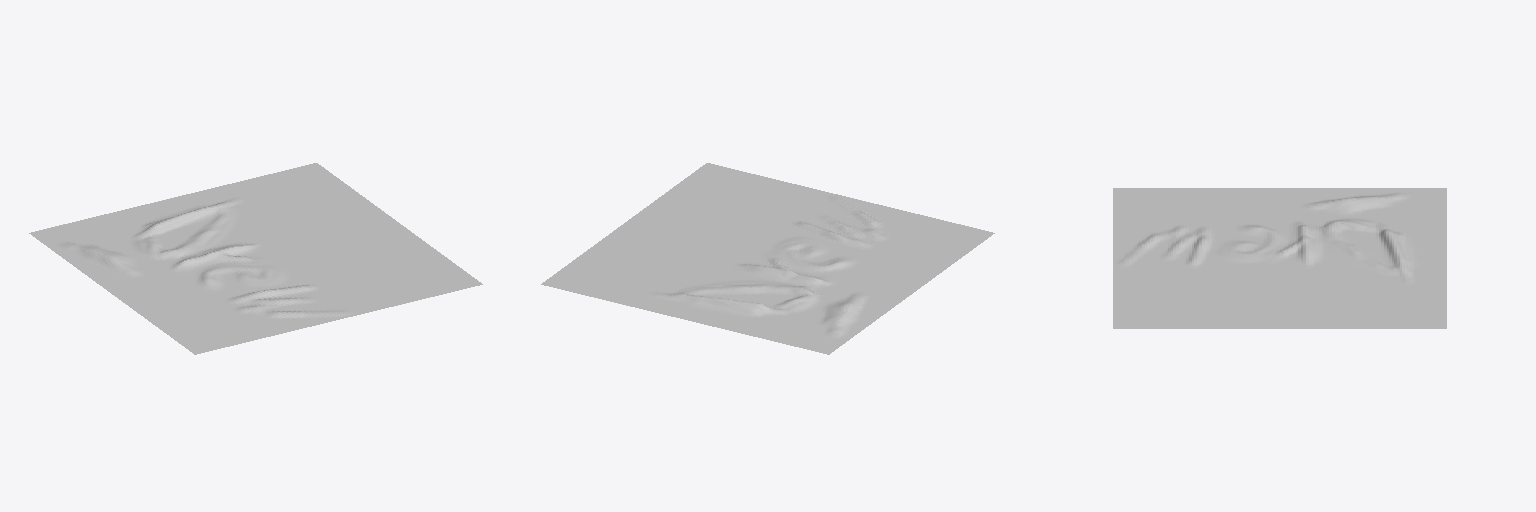
The model's file is drew.obj.
The picture shows the model from 3 angles: view 1: azimuth 30°, elevation 25°; view 2: azimuth 150°, elevation 25°; view 3: azimuth 270°, elevation 25°; orthographic projection.
Visible parts, largest first — view 1: Plane; view 2: Plane; view 3: Plane.
Part boxes in pixels (x1,y1,x2,y2): Plane: (29,163,482,354); Plane: (541,163,994,354); Plane: (1113,188,1446,328).
Bounding box in the file's own units: 15.63 × 0.2891 × 15.63.